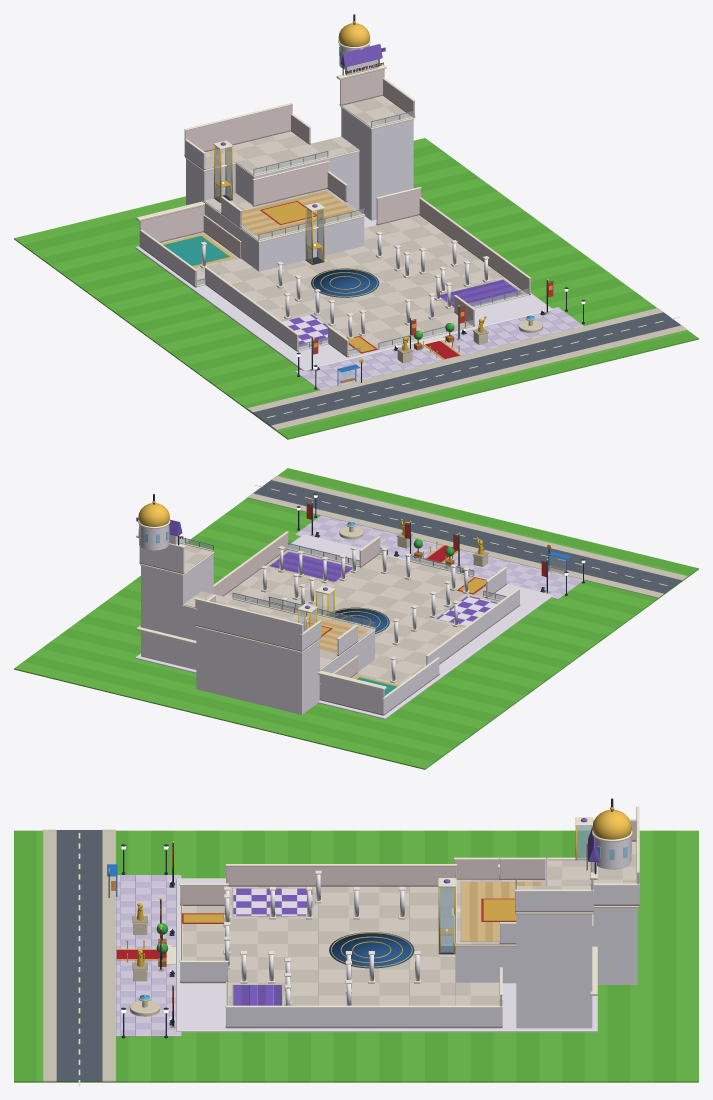
The model's file is shell.glb.
3 views of the same model, one above another, from view 1: azimuth 30°, elevation 25°; view 2: azimuth 150°, elevation 25°; view 3: azimuth 270°, elevation 25° (orthographic). The views are drawn at different scales.
Visible parts, largest first — view 1: grounds, building, floor_floor_1, floor_floor_2, floor_floor_3, crown, lift_floor_1, lift_floor_2, grand_2; view 2: grounds, building, floor_floor_2, floor_floor_3, floor_floor_1, crown, grand_2, dome, grand_4; view 3: grounds, building, floor_floor_3, floor_floor_1, floor_floor_2, crown, lift_floor_1, dome, grand_4, grand_3, lift_floor_2, grand_2.
Boxes of the visible parts, x1,y1,x2,y2 form: grounds: (14,138,698,439); building: (135,187,553,370); floor_floor_1: (203,161,365,271); floor_floor_2: (184,103,359,209); floor_floor_3: (339,69,415,220); crown: (136,14,386,221); lift_floor_1: (305,202,324,264); lift_floor_2: (213,140,233,202); grand_2: (310,278,553,371); grounds: (14,468,698,769); building: (135,531,553,719); floor_floor_2: (182,591,321,714); floor_floor_3: (139,536,214,666); floor_floor_1: (248,596,375,673); crown: (136,494,386,690); grand_2: (306,501,549,593); dome: (138,503,169,526); grand_4: (396,519,488,566); grounds: (14,829,698,1085); building: (166,857,597,1032); floor_floor_3: (514,878,593,1028); floor_floor_1: (454,857,548,983); floor_floor_2: (545,806,639,984); crown: (586,798,632,995); lift_floor_1: (438,878,460,954); dome: (592,809,631,839); grand_4: (132,903,147,981); grand_3: (116,880,174,1025); lift_floor_2: (575,817,592,860); grand_2: (156,841,175,1027).
Bounding box in the file's own units: 39.7 × 15.92 × 45.
